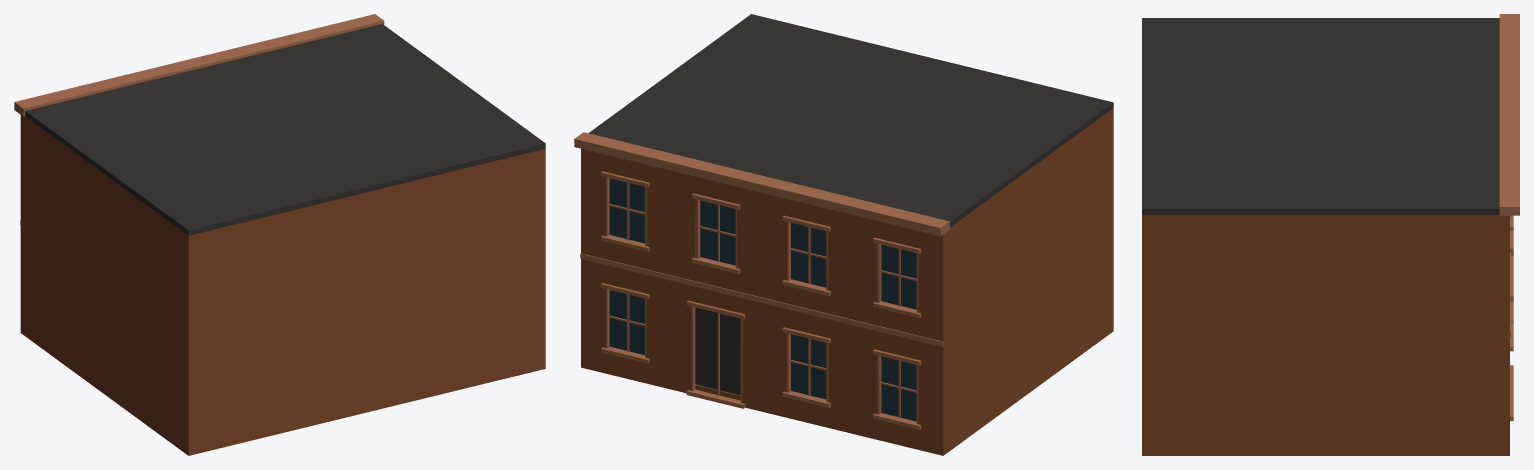
Rendered from residential_4b_2f.obj.
The picture shows the model from 3 angles, left to right: view 1: azimuth 30°, elevation 25°; view 2: azimuth 150°, elevation 25°; view 3: azimuth 270°, elevation 25°; orthographic projection. The views are drawn at different scales.
Visible parts, largest first — view 1: rear_1, roof_slab_93, party_wall_2, cornice_92, foundation_0, wall_pier_4; view 2: roof_slab_93, party_wall_2, cornice_92, door_29, wall_pier_4, wall_pier_47, wall_pier_35, wall_pier_5, wall_pier_16, wall_pier_15, wall_pier_80, wall_pier_36 (+32 smaller); view 3: side_3, roof_slab_93, cornice_92, foundation_0, rear_1, wall_pier_81, wall_pier_36.
Part boxes in pixels (x1,y1,x2,y2): rear_1: (184,149,545,455); roof_slab_93: (25,24,545,235); party_wall_2: (23,116,196,455); cornice_92: (14,14,384,116); foundation_0: (23,327,545,455); wall_pier_4: (20,223,25,335); roof_slab_93: (589,14,1113,227); party_wall_2: (945,108,1113,452); cornice_92: (574,132,949,236); door_29: (695,307,740,395); wall_pier_4: (918,341,946,455); wall_pier_47: (918,231,947,343); wall_pier_35: (646,275,671,389); wall_pier_5: (852,325,877,439); wall_pier_16: (762,303,787,417); wall_pier_15: (827,319,852,433); wall_pier_80: (646,164,671,275); wall_pier_36: (581,259,605,373); side_3: (1142,214,1504,455); roof_slab_93: (1142,18,1499,214); cornice_92: (1499,14,1519,215); foundation_0: (1142,447,1504,455); rear_1: (1142,214,1151,455); wall_pier_81: (1500,215,1509,335); wall_pier_36: (1500,335,1509,455).
Size of the model in its own units: 11.32 by 6.84 by 9.37.
